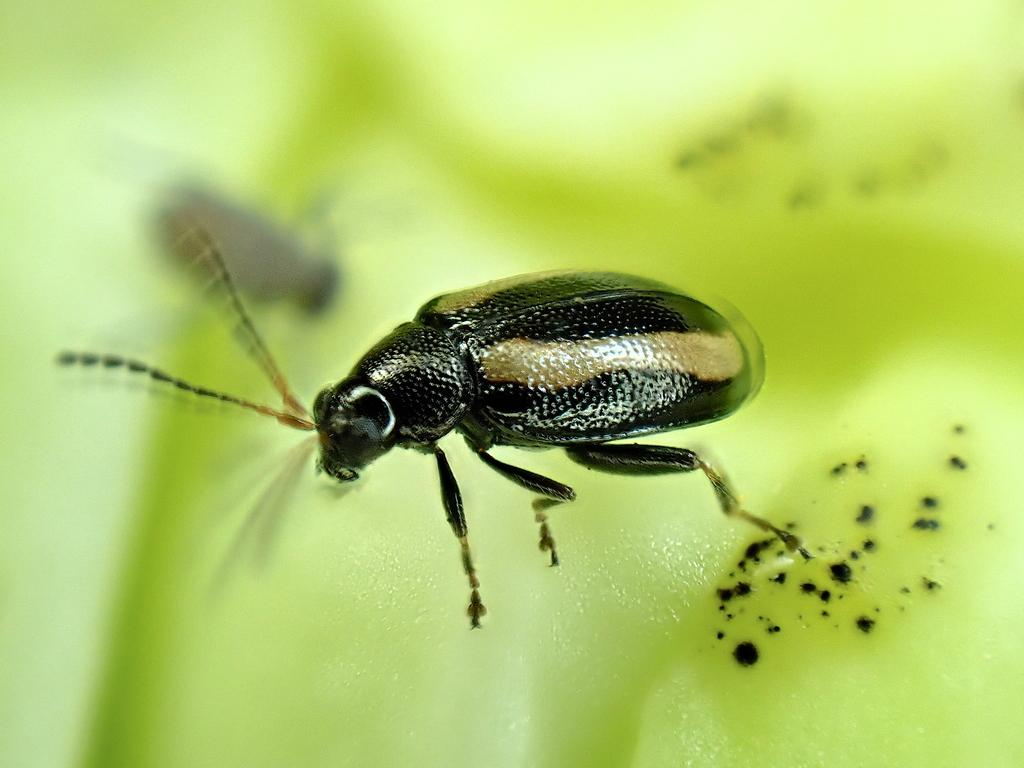flea_beetle: (16, 128, 869, 667)
